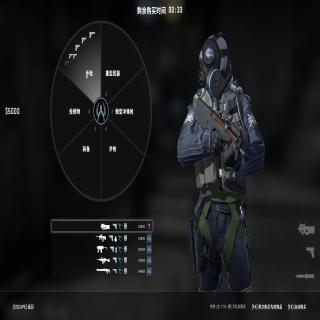CT-Body: (176, 34, 264, 291)
CT-Head: (198, 36, 230, 90)
